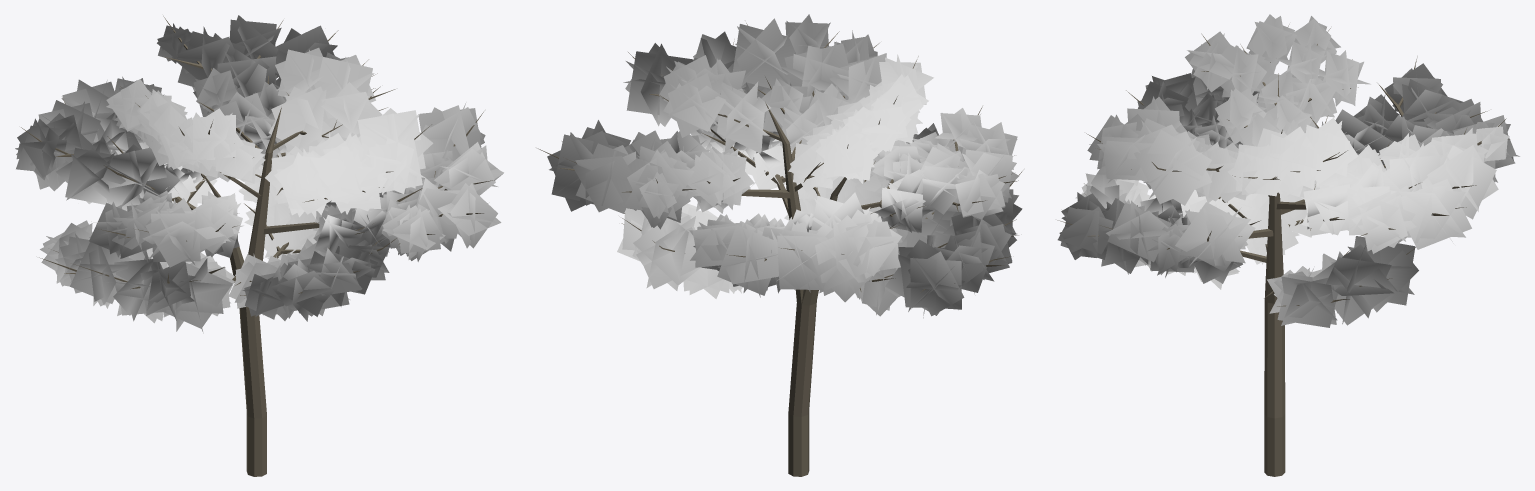
3 renders of one model, left to right at view 1: azimuth 30°, elevation 25°; view 2: azimuth 150°, elevation 25°; view 3: azimuth 270°, elevation 25°, orthographic. The views are drawn at different scales.
Visible parts, largest first — view 1: Leaf_LOD0, Trunk_LOD0; view 2: Leaf_LOD0, Trunk_LOD0; view 3: Leaf_LOD0, Trunk_LOD0.
Part boxes in pixels (x1,y1,x2,y2): Leaf_LOD0: (15, 15, 503, 333); Trunk_LOD0: (21, 16, 494, 476); Leaf_LOD0: (547, 14, 1022, 318); Trunk_LOD0: (537, 23, 1022, 476); Leaf_LOD0: (1057, 14, 1519, 327); Trunk_LOD0: (1057, 24, 1509, 476).
Size of what is drawn, in the model's own units: 5272 by 4988 by 5157.
